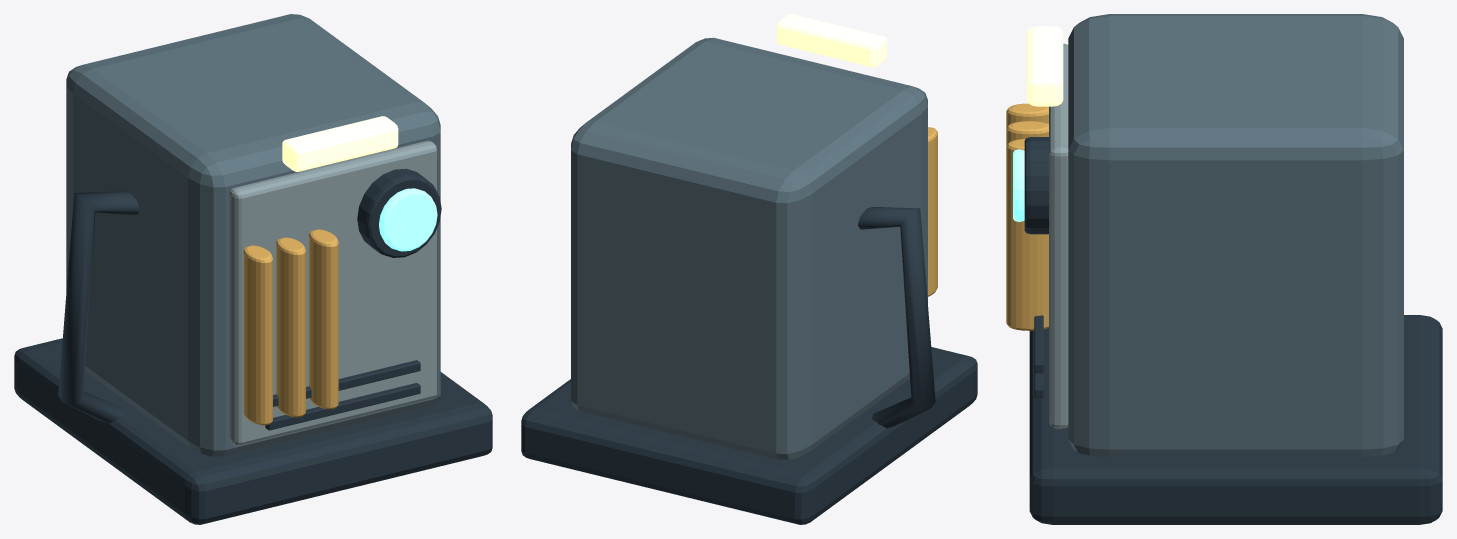
Rendered from SM_Generator.fbx.
The picture shows the model from 3 angles, left to right: view 1: azimuth 30°, elevation 25°; view 2: azimuth 150°, elevation 25°; view 3: azimuth 270°, elevation 25°; orthographic projection. The views are drawn at different scales.
Visible parts, largest first — view 1: SM_Generator; view 2: SM_Generator; view 3: SM_Generator.
Boxes of the visible parts, x1,y1,x2,y2 form: SM_Generator: [14, 14, 492, 524]; SM_Generator: [521, 14, 977, 524]; SM_Generator: [1006, 14, 1442, 524].
Bounding box in the file's own units: 100 × 100 × 100.
